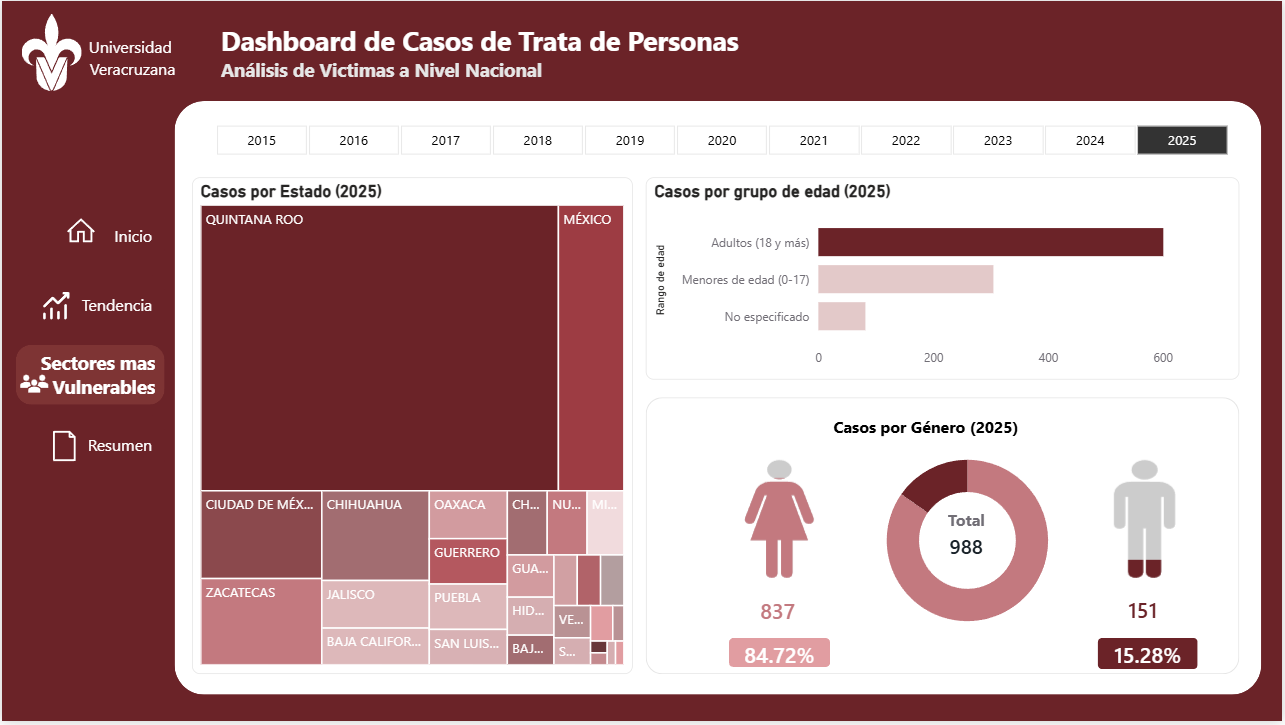

What the dashboard file says about the page in this screenshot:
{"tool":"powerbi","page":{"name":"Sectores mas Vulnerables","canvas":[1280,720],"ordinal":2},"visuals":[{"type":"shape","box":[172.9,99.7,1086.8,593.7],"z":0},{"type":"slicer","fields":{"Values":["Calendario.Año"]},"box":[189.4,117.5,1060.7,43.1],"z":1000},{"type":"image","box":[1.2,12.5,97.5,77.5],"z":2000},{"type":"cardVisual","fields":{"Data":["Medidas.PorcentajeMujeres"]},"box":[709.5,619.6,135.4,63.5],"z":3000},{"type":"textbox","box":[61.4,30,138.6,62.9],"z":4000},{"type":"cardVisual","fields":{"Data":["Medidas.PorcentajeHombres"]},"box":[1078.7,619.6,134.2,65.9],"z":5000},{"type":"textbox","box":[213.3,16.7,550,78.3],"z":6000},{"type":"shape","box":[643.8,396,593.6,277.1],"z":7000},{"type":"PBI_CV_73744D90_4DC9_4F18_8BA5_EE8FA5C98035","fields":{"Category":["Estatal-Víctimas-2015-2025_ene2026.Sexo"],"Values":["Sum(Estatal-Víctimas-2015-2025_ene2026.Numero Victimas)"]},"box":[721.5,414.7,199,175],"z":8000},{"type":"PBI_CV_73744D90_4DC9_4F18_8BA5_EE8FA5C98035","fields":{"Category":["Estatal-Víctimas-2015-2025_ene2026.Sexo"],"Values":["Sum(Estatal-Víctimas-2015-2025_ene2026.Numero Victimas)"]},"box":[1015.1,414.7,178.6,175],"z":9000},{"type":"treemap","fields":{"Group":["Estatal-Víctimas-2015-2025_ene2026.Entidad"],"Values":["Sum(Estatal-Víctimas-2015-2025_ene2026.Numero Victimas)"]},"box":[189.7,176.4,441.1,496.7],"z":10000},{"type":"clusteredBarChart","fields":{"Category":["Estatal-Víctimas-2015-2025_ene2026.Rango de edad"],"Y":["Sum(Estatal-Víctimas-2015-2025_ene2026.Numero Victimas)"]},"box":[643.8,176.7,593.6,202.6],"z":11000},{"type":"cardVisual","fields":{"Data":["Sum(Estatal-Víctimas-2015-2025_ene2026.Numero Victimas)"]},"box":[818.6,429.1,291.2,207.3],"z":12000},{"type":"donutChart","fields":{"Category":["Estatal-Víctimas-2015-2025_ene2026.Sexo"],"Y":["Sum(Estatal-Víctimas-2015-2025_ene2026.Numero Victimas)"]},"box":[864.1,414.7,203.7,249.3],"z":13000},{"type":"cardVisual","fields":{"Data":["Medidas.CasosMujer"]},"box":[713.5,578.5,124.5,60],"z":14000},{"type":"cardVisual","fields":{"Data":["Sum(Estatal-Víctimas-2015-2025_ene2026.Numero Victimas)"]},"box":[802,396,265.4,56.1],"z":15000},{"type":"cardVisual","fields":{"Data":["Medidas.CasosHombre"]},"box":[1078.4,578.5,125,57.4],"z":16000},{"type":"pageNavigator","box":[13.3,204.2,145.8,260],"z":17000},{"type":"image","box":[15.8,349.2,36.7,38.3],"z":18000},{"type":"image","box":[59.2,287.5,26.7,25.8],"z":19000},{"type":"image","box":[77.5,217.5,31.7,30.8],"z":20000},{"type":"image","box":[54.2,401.7,40,70.8],"z":21000}]}

Visuals, with their boxes on the page's 1280x720 design canvas (x1, y1, x2, y2). These are canvas units, not pixel positions in the 1285x725 screenshot, which may show the page scaled, cropped or inside an application window:
shape: 173,100,1260,693
slicer - Calendario.Año: 189,118,1250,161
image: 1,12,99,90
cardVisual - Medidas.PorcentajeMujeres: 710,620,845,683
textbox: 61,30,200,93
cardVisual - Medidas.PorcentajeHombres: 1079,620,1213,686
textbox: 213,17,763,95
shape: 644,396,1237,673
PBI_CV_73744D90_4DC9_4F18_8BA5_EE8FA5C98035 - Estatal-Víctimas-2015-2025_ene2026.Sexo x Sum(Estatal-Víctimas-2015-2025_ene2026.Numero Victimas): 722,415,920,590
PBI_CV_73744D90_4DC9_4F18_8BA5_EE8FA5C98035 - Estatal-Víctimas-2015-2025_ene2026.Sexo x Sum(Estatal-Víctimas-2015-2025_ene2026.Numero Victimas): 1015,415,1194,590
treemap - Estatal-Víctimas-2015-2025_ene2026.Entidad x Sum(Estatal-Víctimas-2015-2025_ene2026.Numero Victimas): 190,176,631,673
clusteredBarChart - Estatal-Víctimas-2015-2025_ene2026.Rango de edad x Sum(Estatal-Víctimas-2015-2025_ene2026.Numero Victimas): 644,177,1237,379
cardVisual - Sum(Estatal-Víctimas-2015-2025_ene2026.Numero Victimas): 819,429,1110,636
donutChart - Estatal-Víctimas-2015-2025_ene2026.Sexo x Sum(Estatal-Víctimas-2015-2025_ene2026.Numero Victimas): 864,415,1068,664
cardVisual - Medidas.CasosMujer: 714,578,838,638
cardVisual - Sum(Estatal-Víctimas-2015-2025_ene2026.Numero Victimas): 802,396,1067,452
cardVisual - Medidas.CasosHombre: 1078,578,1203,636
pageNavigator: 13,204,159,464
image: 16,349,52,388
image: 59,288,86,313
image: 78,218,109,248
image: 54,402,94,472
